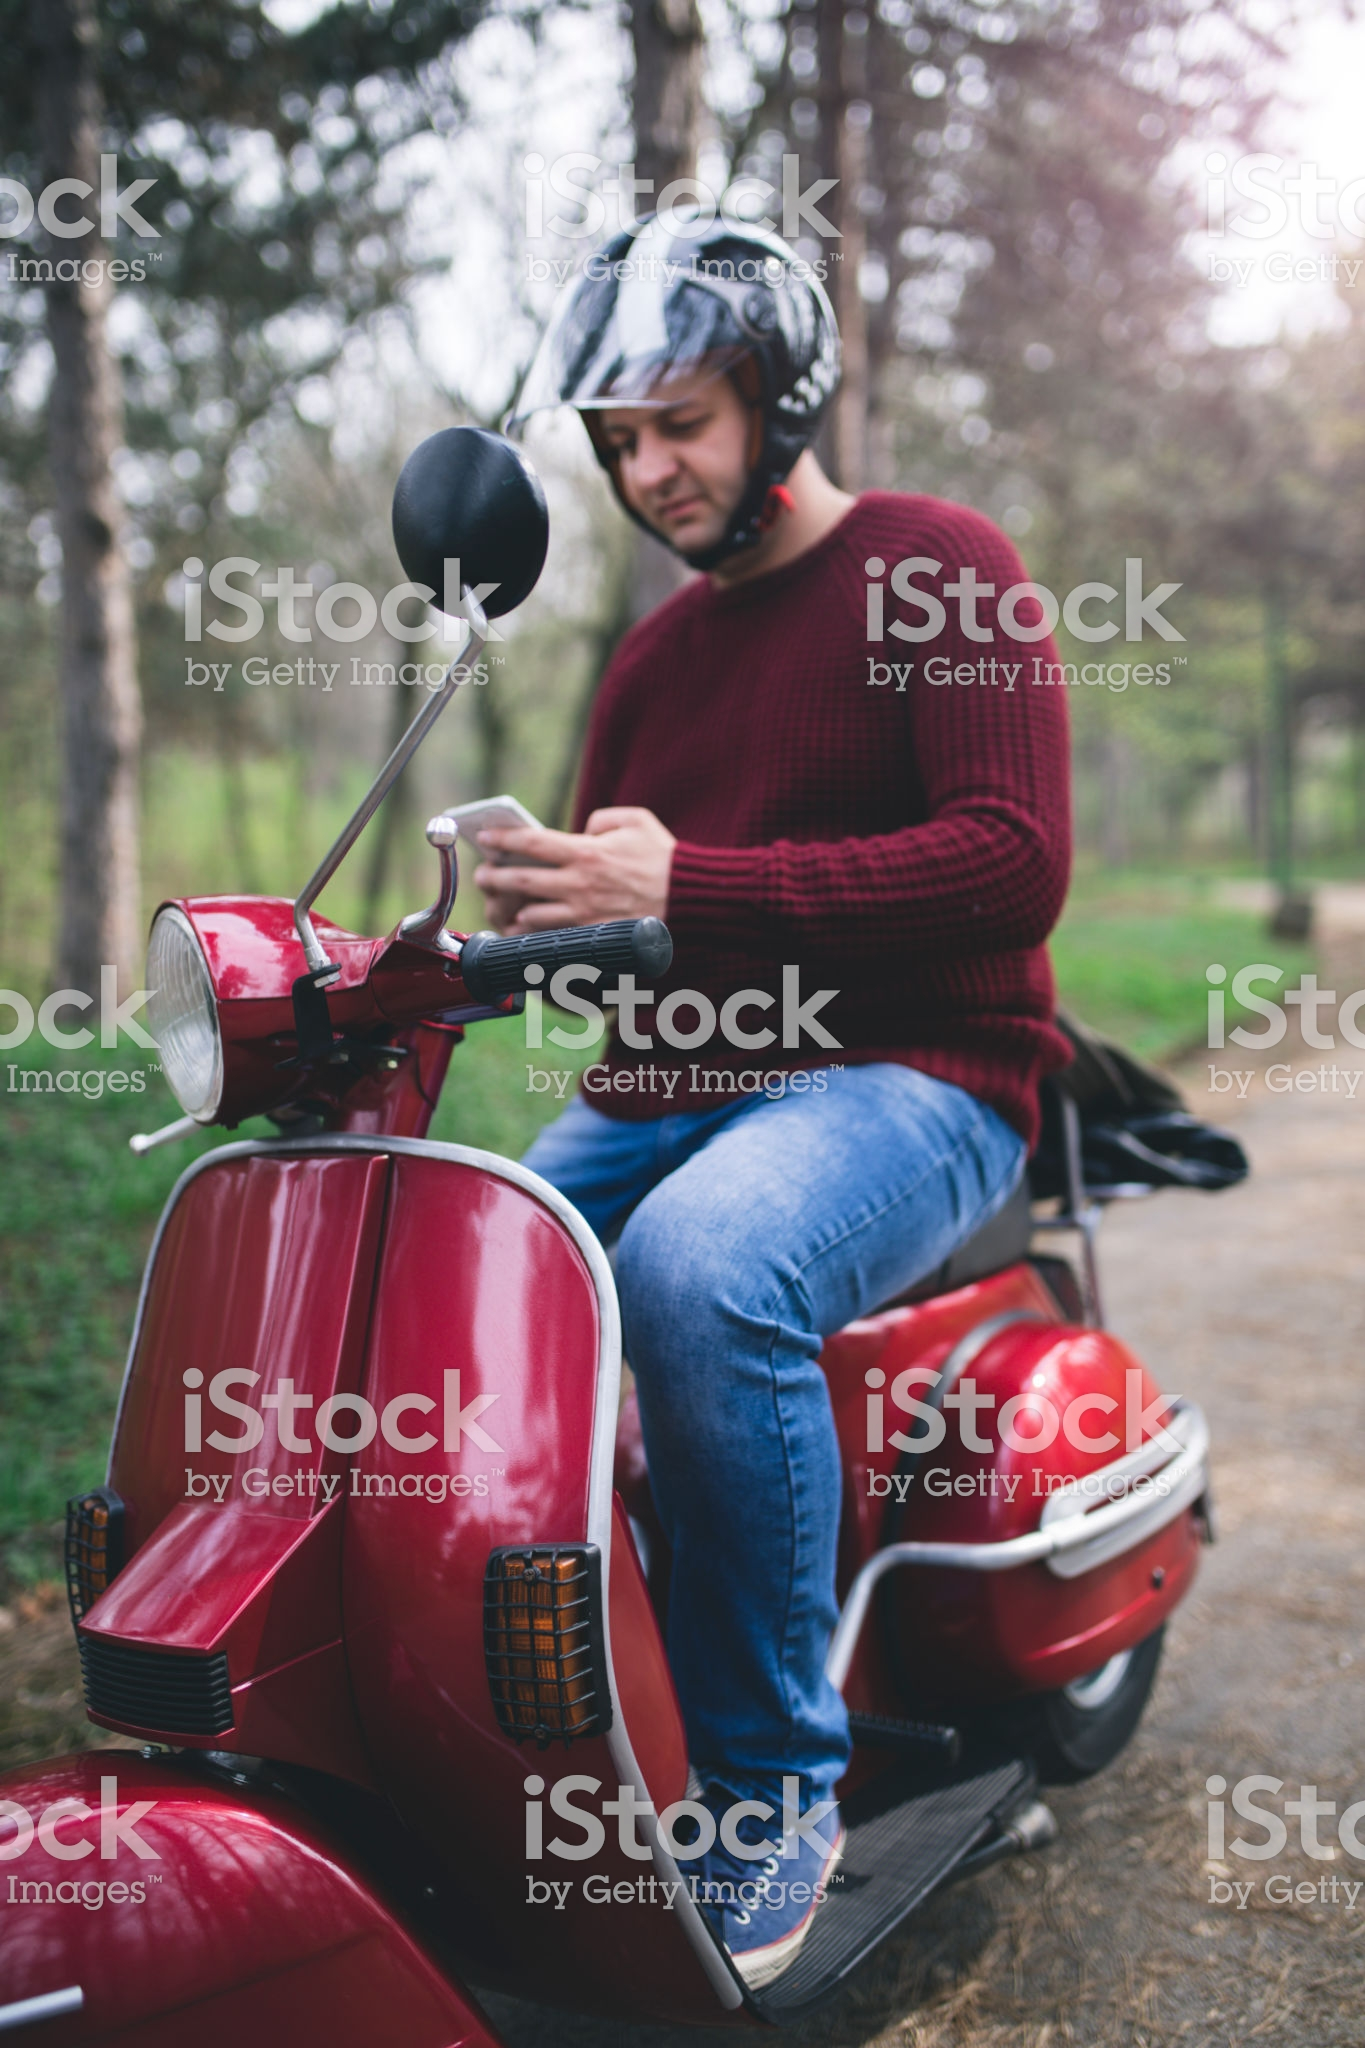helmet: (545, 231, 885, 463)
